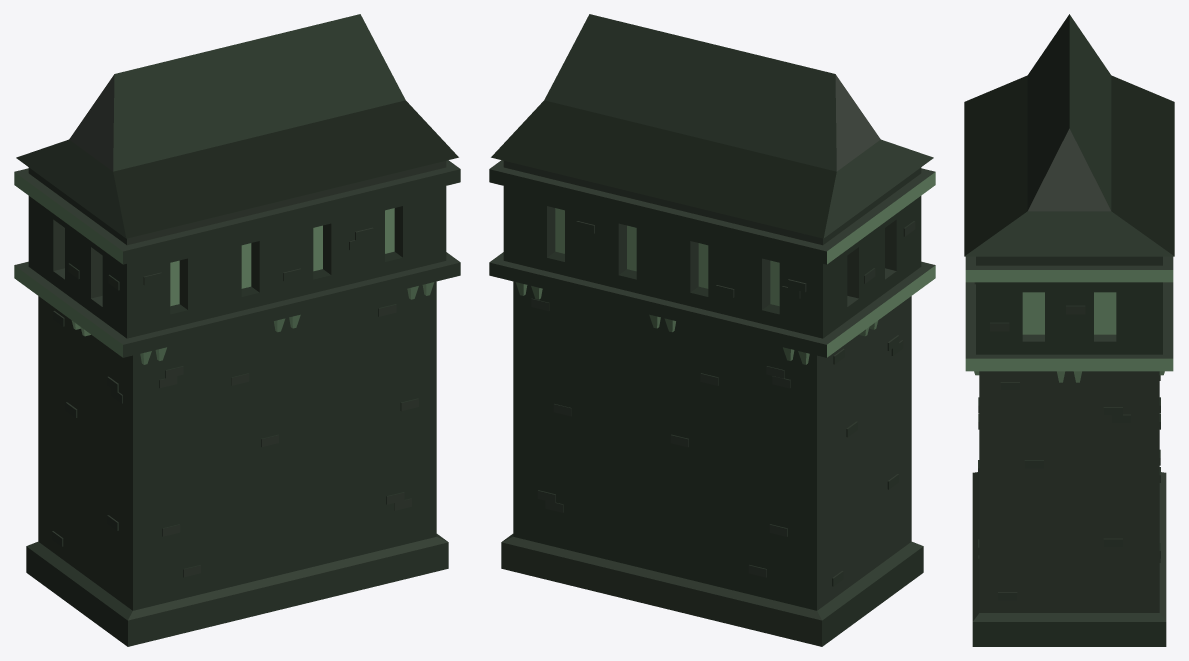
The model's file is SF_Bld_Castle_Keep_01.glb.
3 views of the same model, side by side, from view 1: azimuth 30°, elevation 25°; view 2: azimuth 150°, elevation 25°; view 3: azimuth 270°, elevation 25° (orthographic). The views are drawn at different scales.
Parts seen in each view (by area): view 1: SF_Bld_Castle_Keep_01; view 2: SF_Bld_Castle_Keep_01; view 3: SF_Bld_Castle_Keep_01.
Boxes of the visible parts, <box> form: SF_Bld_Castle_Keep_01: <box>14,14,460,646</box>; SF_Bld_Castle_Keep_01: <box>489,14,935,646</box>; SF_Bld_Castle_Keep_01: <box>964,14,1174,646</box>.
Bounding box in the file's own units: 0.2387 × 0.3558 × 0.1355.
1 material, 1 textured.
